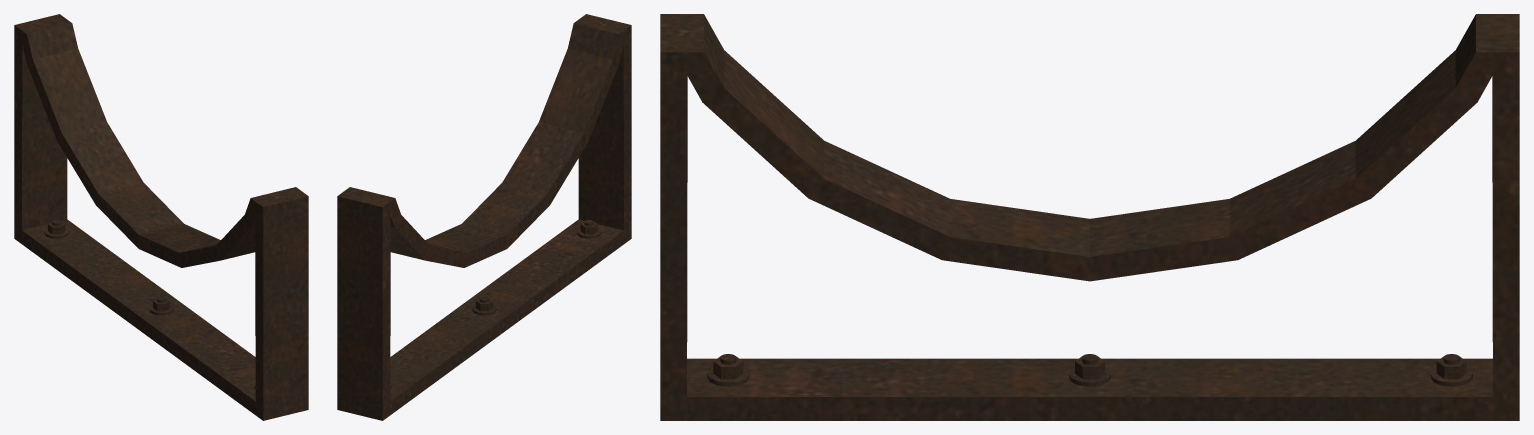
File: stand_mx_1.dae
3 renders of one model, left to right at view 1: azimuth 30°, elevation 25°; view 2: azimuth 150°, elevation 25°; view 3: azimuth 270°, elevation 25°, orthographic. The views are drawn at different scales.
Visible parts, largest first — view 1: stand_mx_1; view 2: stand_mx_1; view 3: stand_mx_1.
Boxes of the visible parts, x1=… form: stand_mx_1: x1=14, y1=14, x2=308, y2=420; stand_mx_1: x1=337, y1=14, x2=631, y2=420; stand_mx_1: x1=660, y1=14, x2=1519, y2=420.
Size of the model in its own units: 0.2 by 1.9 by 0.9.
1 material, 1 textured.
